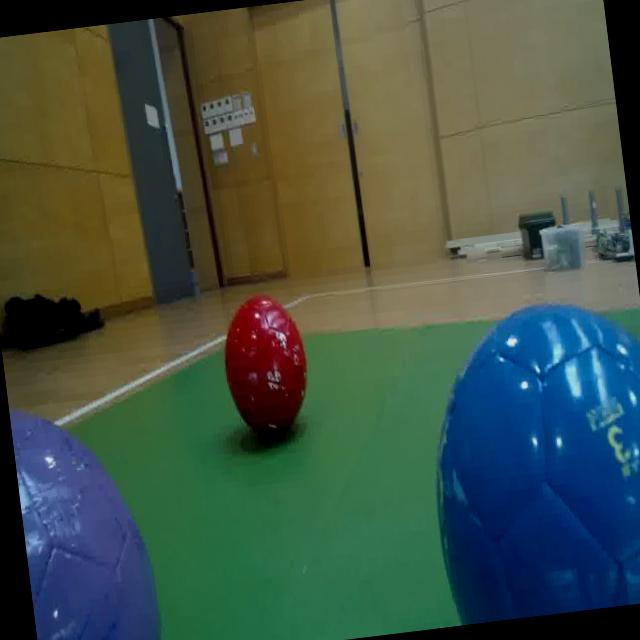blue_ball: (400, 283, 640, 628)
purple_ball: (8, 389, 165, 640)
red_ball: (214, 287, 320, 445)
